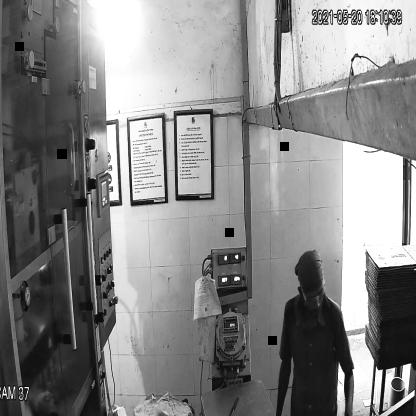goggles: (296, 284, 326, 306)
